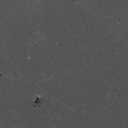corrosion: (32, 94, 43, 107), (27, 55, 30, 59)
